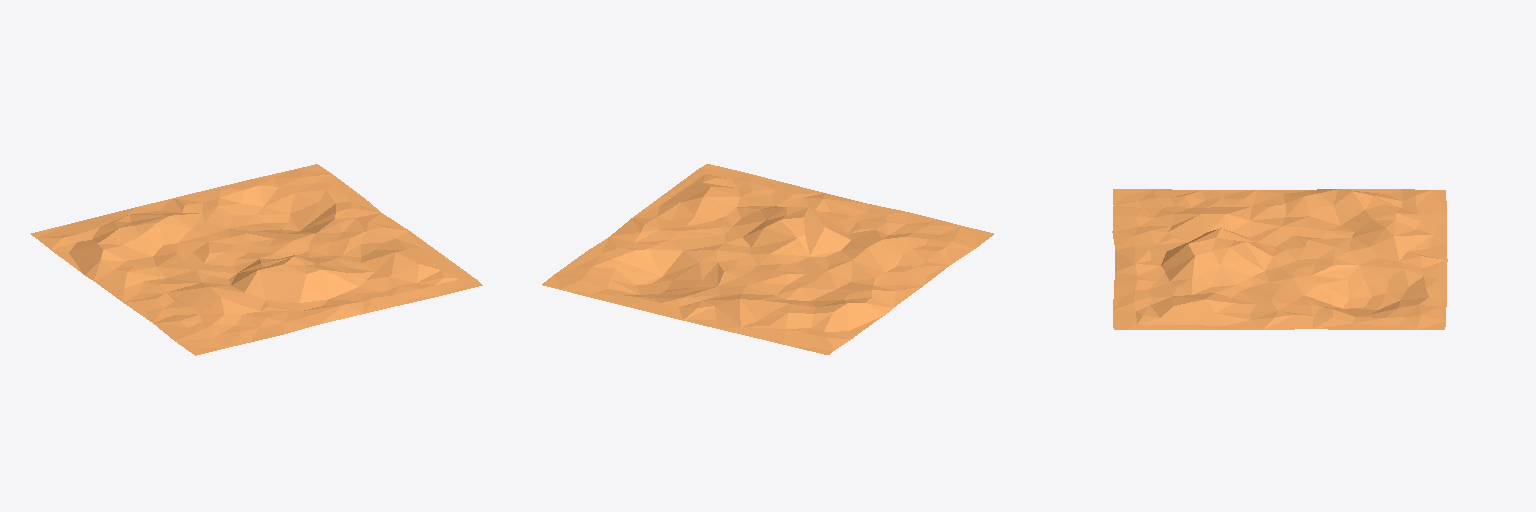
File: Ground7.obj
3 views of the same model, side by side, from view 1: azimuth 30°, elevation 25°; view 2: azimuth 150°, elevation 25°; view 3: azimuth 270°, elevation 25° (orthographic).
Visible parts, largest first — view 1: Plane; view 2: Plane; view 3: Plane.
Boxes of the visible parts, x1=… form: Plane: x1=31, y1=164, x2=482, y2=355; Plane: x1=542, y1=164, x2=993, y2=354; Plane: x1=1112, y1=189, x2=1447, y2=329.
Size of the model in its own units: 400 by 42.74 by 400.